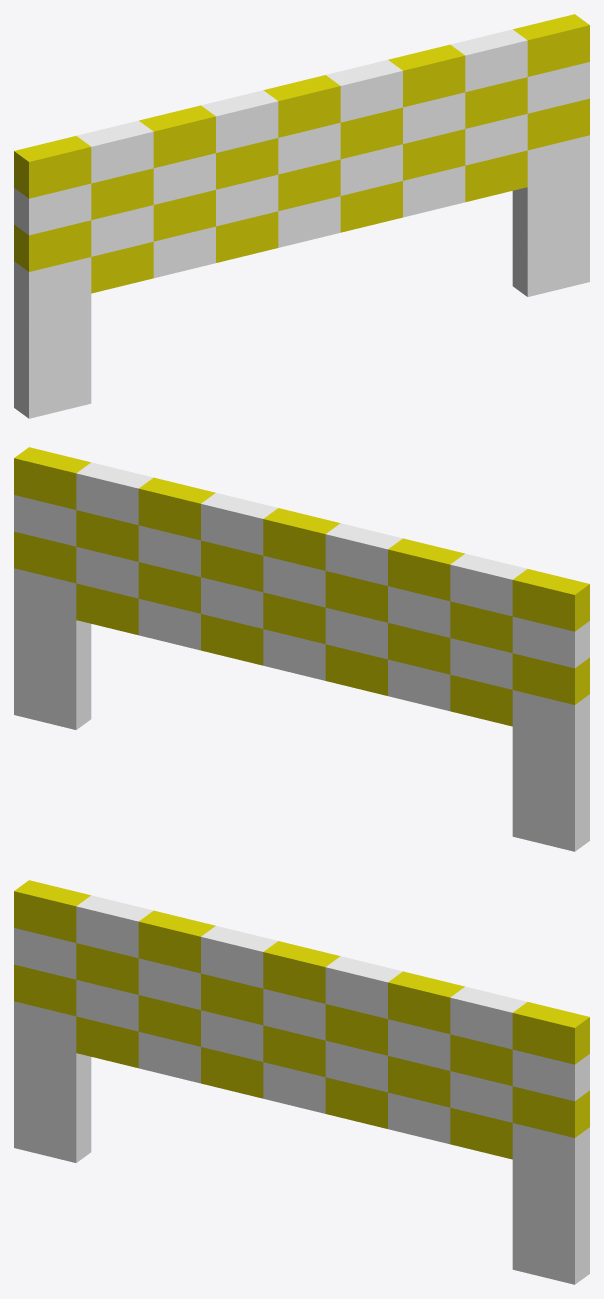
The model's file is LowBarrier.fbx.
3 views of the same model, one above another, from view 1: azimuth 30°, elevation 25°; view 2: azimuth 150°, elevation 25°; view 3: azimuth 330°, elevation 25° (orthographic).
Parts seen in each view (by area): view 1: Cube; view 2: Cube; view 3: Cube.
Part boxes in pixels (x1,y1,x2,y2): Cube: [14, 14, 589, 418]; Cube: [14, 447, 589, 851]; Cube: [14, 880, 589, 1284].
Size of the model in its own units: 800 by 350 by 37.3.
